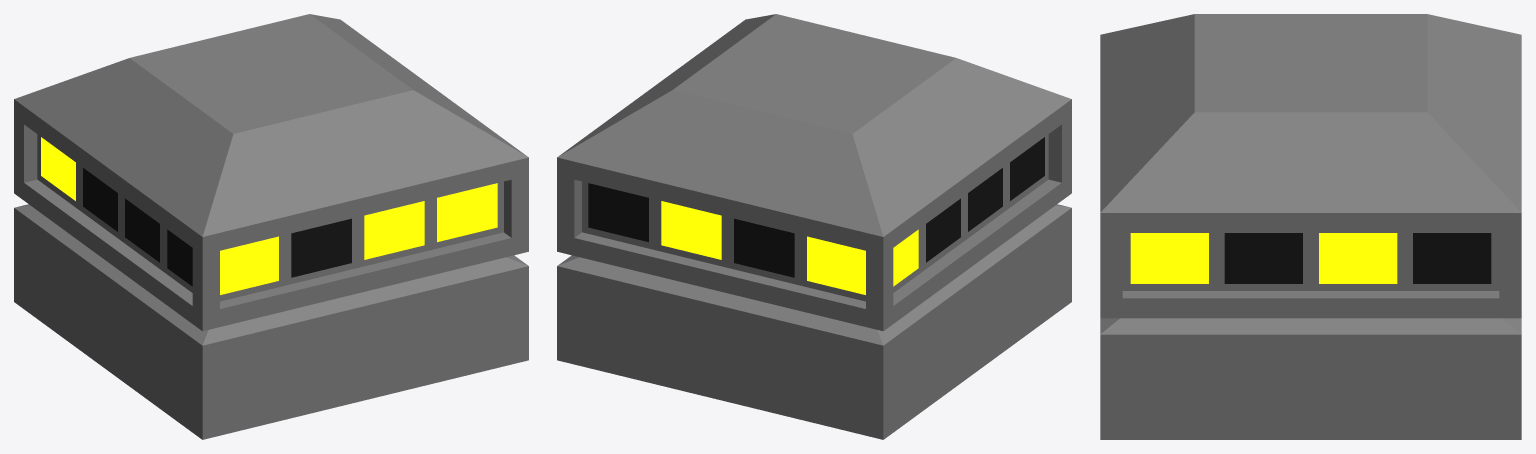
File: s0_room_0_ceiling_variation_0.fbx
3 views of the same model, side by side, from view 1: azimuth 30°, elevation 25°; view 2: azimuth 150°, elevation 25°; view 3: azimuth 270°, elevation 25° (orthographic). The views are drawn at different scales.
Visible parts, largest first — view 1: CorridorCeilingVariation0; view 2: CorridorCeilingVariation0; view 3: CorridorCeilingVariation0.
Boxes of the visible parts, x1=… form: CorridorCeilingVariation0: x1=14, y1=14, x2=528, y2=439; CorridorCeilingVariation0: x1=557, y1=14, x2=1071, y2=439; CorridorCeilingVariation0: x1=1100, y1=14, x2=1521, y2=439.
Bounding box in the file's own units: 1010 × 761 × 1010.
